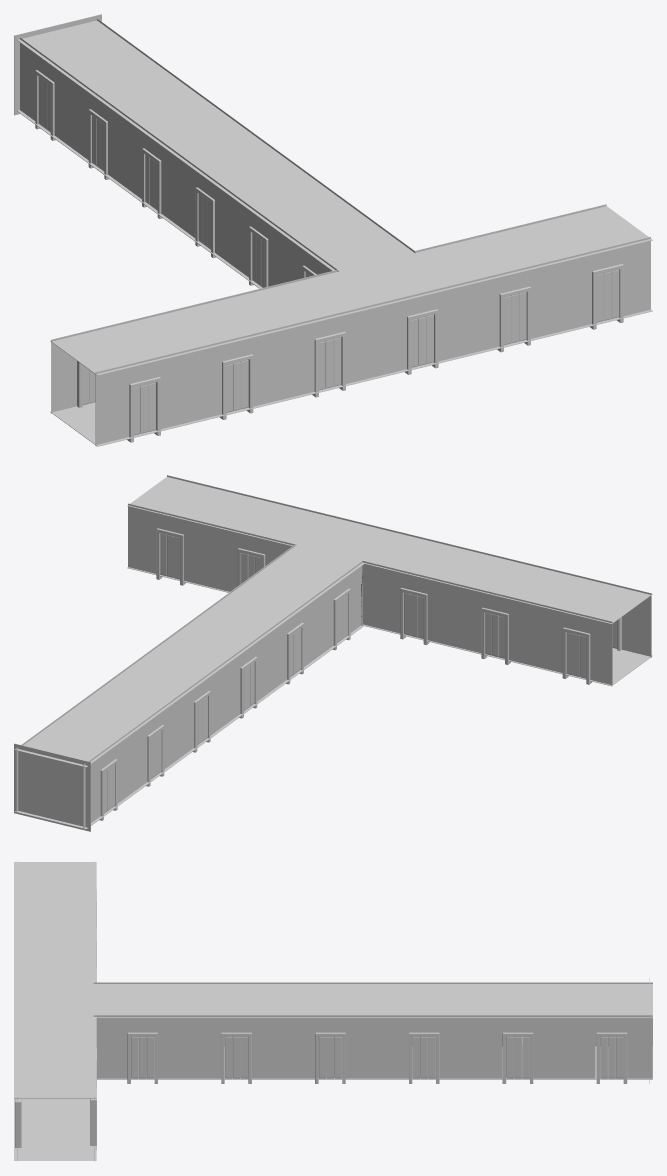
File: Lobby Ver 1.fbx
The picture shows the model from 3 angles, top to bottom: view 1: azimuth 30°, elevation 25°; view 2: azimuth 150°, elevation 25°; view 3: azimuth 270°, elevation 25°; orthographic projection. The views are drawn at different scales.
Visible parts, largest first — view 1: Cube.020, Cube.015, Cube.007, Cube.001, Cube.017, Cube.018, Cube.004, Cube.003, Cube.019, Cube.021, Cube.032, Cube (+1 smaller); view 2: Cube.019, Cube.007, Cube.015, Cube.001, Cube.032, Cube.013, Cube.004, Cube.014, Cube.020, Cube.003, Cube.021, Cube (+1 smaller); view 3: Cube.002, Cube.015, Cube.007, Cube.009, Cube.021, Cube.008, Cube, Cube.001, Cube.014.
Boxes of the visible parts, x1,y1,x2,y2 form: Cube.020: (95,237,650,446); Cube.015: (50,206,652,375); Cube.007: (17,20,416,272); Cube.001: (20,37,338,286); Cube.017: (134,269,619,435); Cube.018: (127,264,623,442); Cube.004: (38,77,310,287); Cube.003: (35,70,316,287); Cube.019: (51,204,606,413); Cube.021: (50,309,652,446); Cube.032: (14,14,101,115); Cube: (17,110,262,288); Cube.019: (128,503,612,686); Cube.007: (15,545,364,767); Cube.015: (127,477,652,624); Cube.001: (83,560,362,829); Cube.032: (14,743,90,831); Cube.013: (160,533,586,678); Cube.004: (104,594,347,813); Cube.014: (156,528,592,684); Cube.020: (167,475,651,657); Cube.003: (99,588,350,820); Cube.021: (127,567,652,686); Cube: (15,624,364,829); Cube.002: (93,1015,652,1078); Cube.015: (14,862,96,1098); Cube.007: (93,984,652,1017); Cube.009: (131,1036,623,1078); Cube.021: (14,1099,96,1160); Cube.008: (127,1032,627,1083); Cube: (97,1045,652,1079); Cube.001: (93,982,652,1045); Cube.014: (90,889,96,1149).
Size of the model in its own units: 3830 by 533 by 4374.
